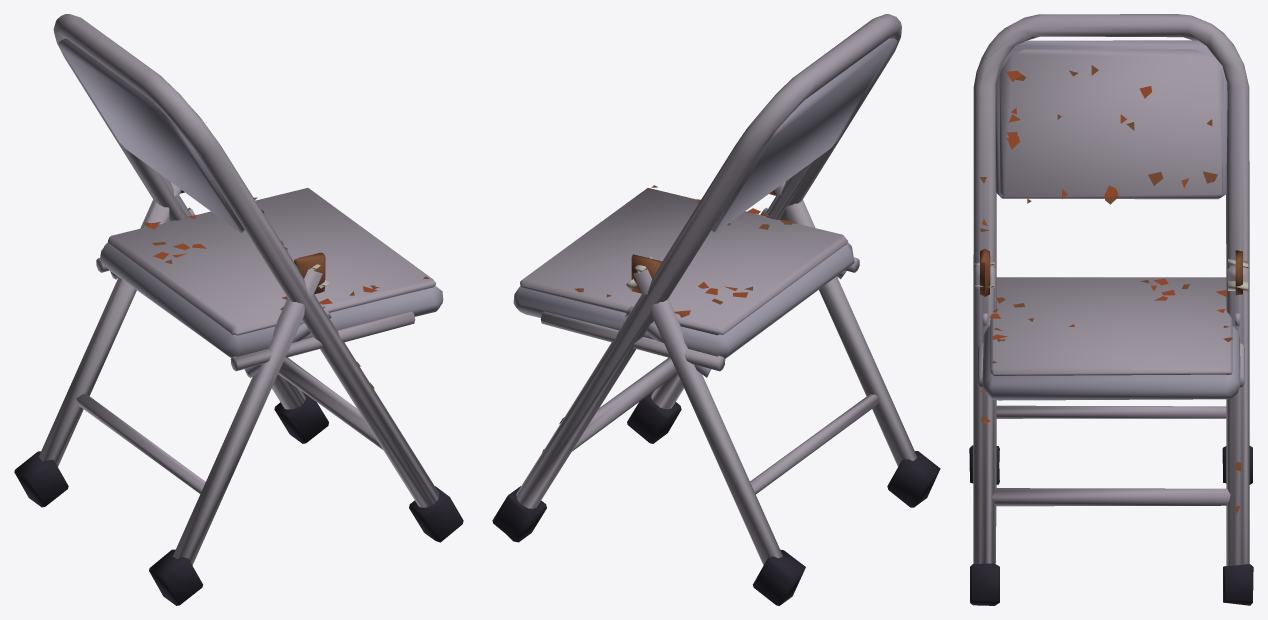
The picture shows the model from 3 angles, left to right: view 1: azimuth 30°, elevation 25°; view 2: azimuth 150°, elevation 25°; view 3: azimuth 270°, elevation 25°; orthographic projection. The views are drawn at different scales.
Bounding box in the file's own units: 0.6473 × 1.04 × 0.5613.
